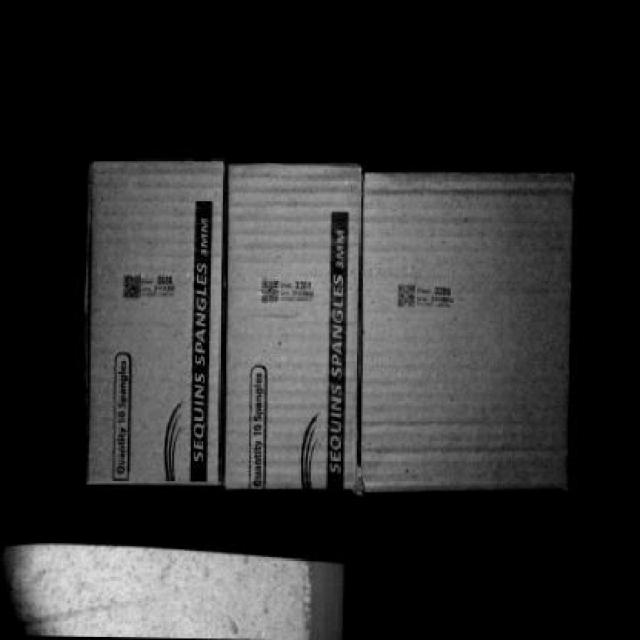cardboxes: (360, 172, 572, 490), (84, 157, 225, 481), (226, 169, 362, 485)
